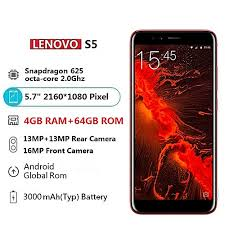lenovo: (125, 26, 219, 216)
